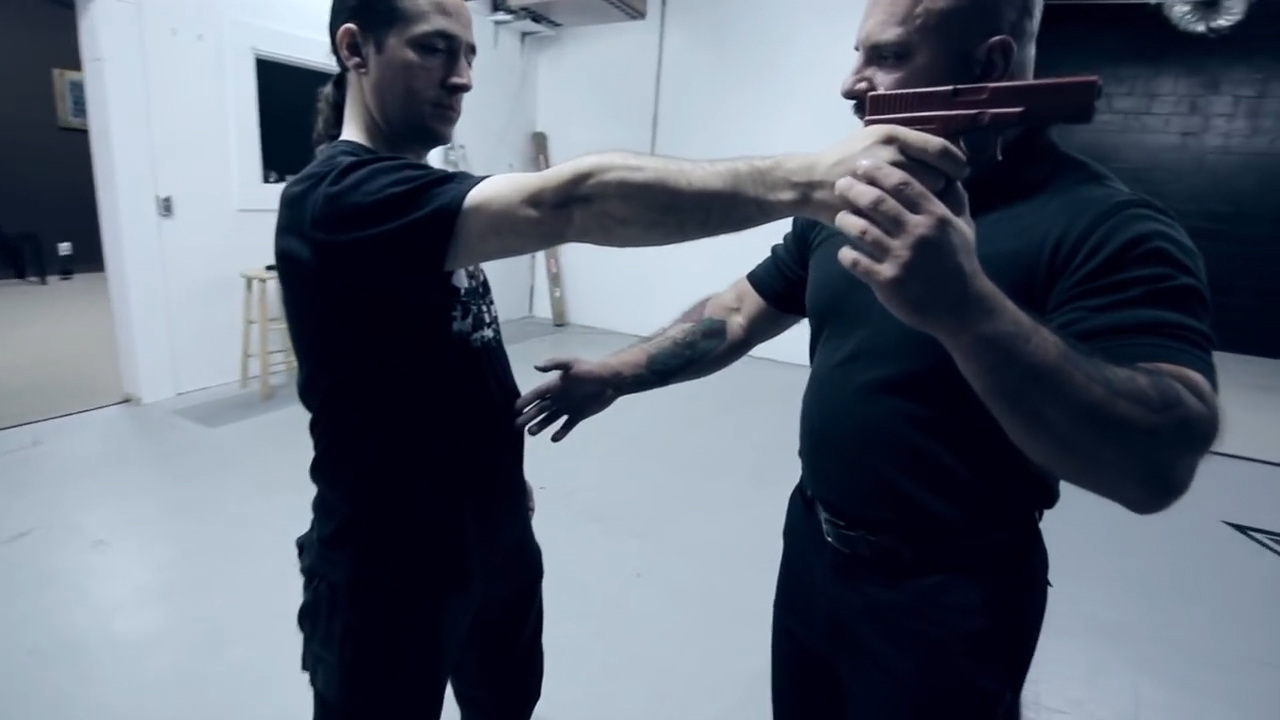pistol: (861, 73, 1105, 188)
